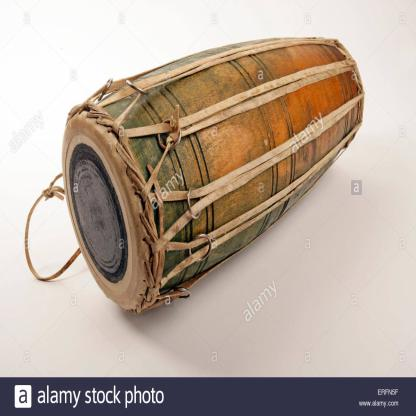Mridangam: (56, 26, 372, 327)
